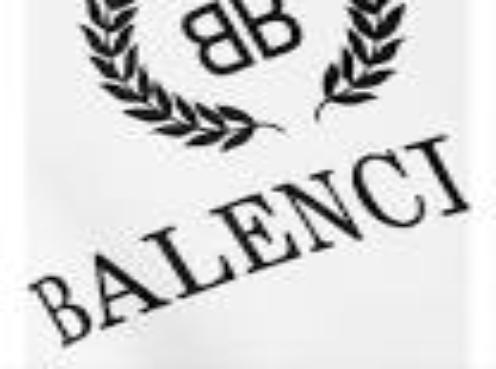BALENCIAGA: (28, 131, 472, 351)
